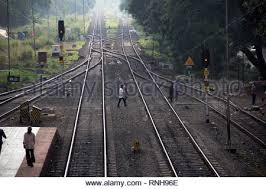crossing railway track: (116, 84, 130, 107), (165, 80, 178, 103)
